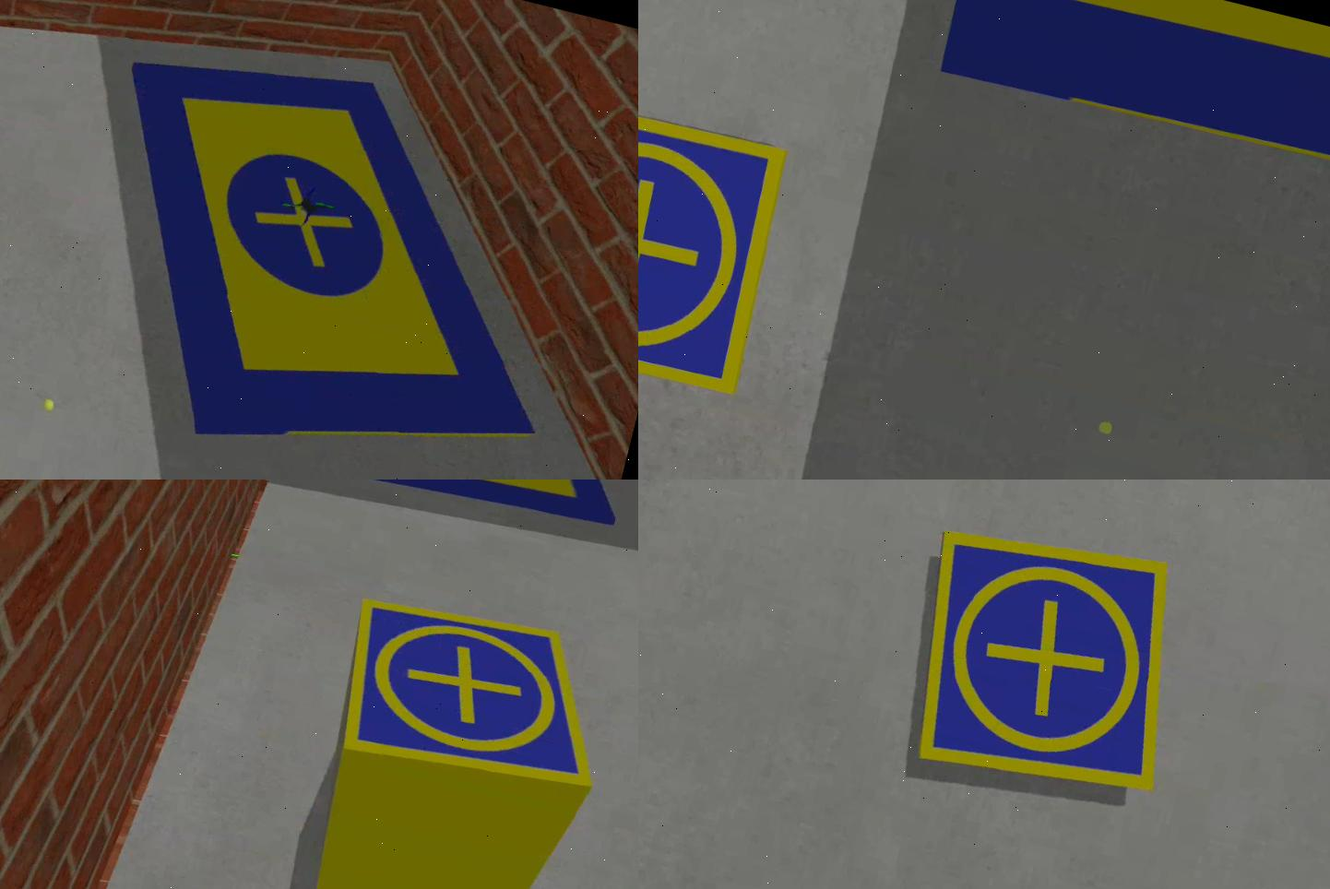large_base: (48, 22, 612, 480), (937, 1, 1330, 195), (325, 480, 635, 545)
small_base: (891, 511, 1205, 819), (327, 587, 627, 813), (639, 87, 797, 398)
